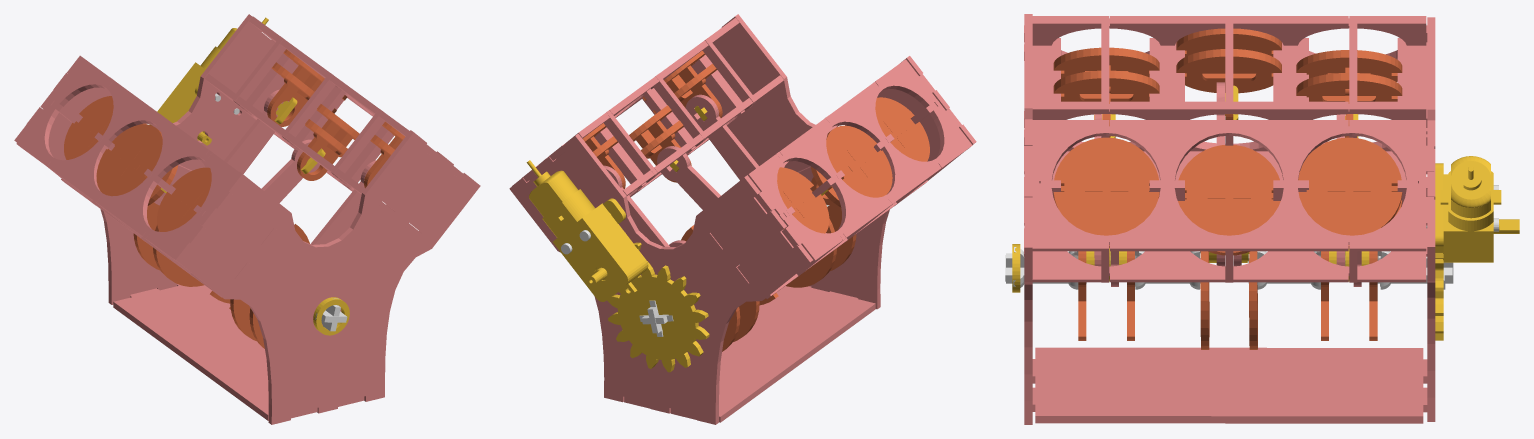
The model's file is asset.gltf.
The picture shows the model from 3 angles, left to right: view 1: azimuth 30°, elevation 25°; view 2: azimuth 150°, elevation 25°; view 3: azimuth 270°, elevation 25°; orthographic projection. The views are drawn at different scales.
Parts seen in each view (by area): view 1: tampa_lateral_s-motor.001, base, tampa_latera_p:motor, tampa_inferior, conexao_biela_1.005, conexao_biela_1.002, conexao_biela_1.006, conexao_biela_1.007, base.003, conexao_biela_1.008, base.002, motor_dc (+15 smaller); view 2: tampa_latera_p:motor, base, tampa_lateral_s-motor.001, tampa_inferior, motor_dc, engrenagem_maior, conexao_biela_1.005, conexao_biela_1.002, conexao_biela_1.008, biela.001, base.002, base.003 (+15 smaller); view 3: tampa_inferior, base.002, base.003, conexao_biela_1.001, conexao_biela_1.007, base, conexao_biela_1.006, base.001, motor_dc, conexao_biela_1.005, conexao_biela_1.002, conexao_biela_1.008 (+17 smaller).
Boxes of the visible parts, x1,y1,x2,y2 form: tampa_lateral_s-motor.001: [172, 130, 480, 424]; base: [16, 58, 238, 261]; tampa_latera_p:motor: [14, 14, 298, 304]; tampa_inferior: [113, 284, 364, 420]; conexao_biela_1.005: [96, 124, 178, 205]; conexao_biela_1.002: [157, 167, 211, 231]; conexao_biela_1.006: [297, 104, 359, 180]; conexao_biela_1.007: [267, 49, 347, 126]; base.003: [204, 74, 421, 238]; conexao_biela_1.008: [64, 96, 146, 159]; base.002: [249, 16, 466, 181]; motor_dc: [149, 17, 268, 145]; tampa_latera_p:motor: [509, 133, 812, 424]; base: [748, 59, 972, 263]; tampa_lateral_s-motor.001: [691, 14, 976, 309]; tampa_inferior: [624, 286, 875, 422]; motor_dc: [526, 160, 648, 301]; engrenagem_maior: [607, 262, 709, 372]; conexao_biela_1.005: [810, 125, 892, 207]; conexao_biela_1.002: [847, 97, 929, 161]; conexao_biela_1.008: [777, 167, 829, 233]; biela.001: [685, 94, 758, 180]; base.002: [512, 17, 739, 185]; base.003: [623, 75, 783, 197]; tampa_inferior: [1032, 347, 1427, 423]; base.002: [1024, 120, 1434, 251]; base.003: [1024, 151, 1427, 282]; conexao_biela_1.001: [1053, 137, 1159, 248]; conexao_biela_1.007: [1298, 137, 1402, 248]; base: [1024, 16, 1427, 60]; conexao_biela_1.006: [1178, 145, 1280, 255]; base.001: [1024, 101, 1427, 151]; motor_dc: [1440, 156, 1519, 262]; conexao_biela_1.005: [1176, 28, 1281, 119]; conexao_biela_1.002: [1053, 47, 1159, 137]; conexao_biela_1.008: [1296, 50, 1402, 137].
Size of the model in its own units: 164 by 133 by 191.
